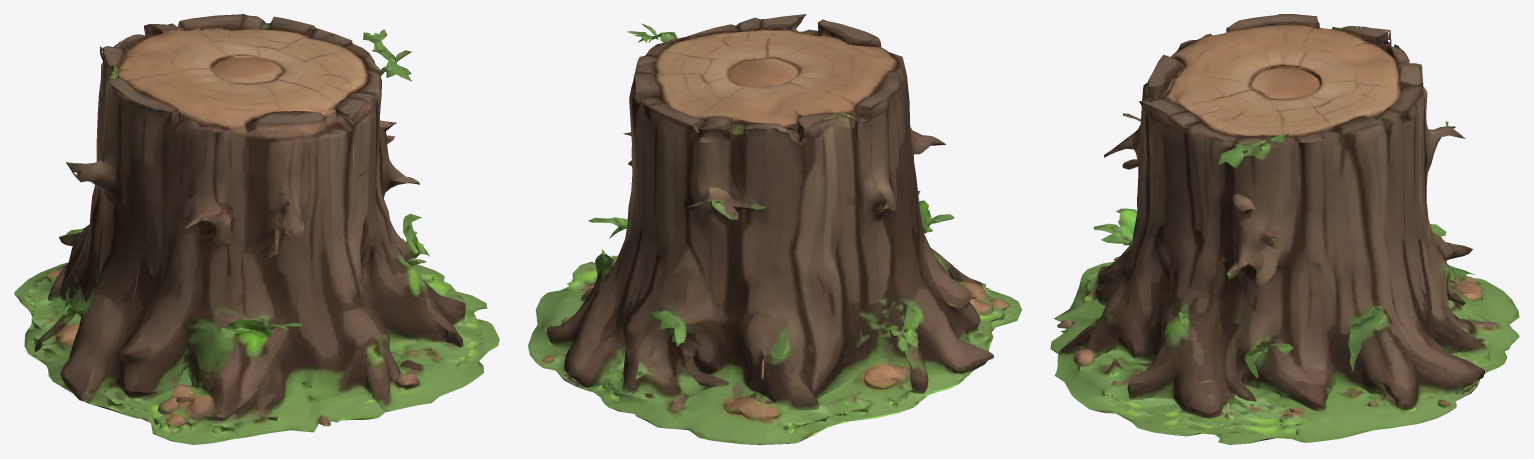
The model's file is StumpGrass.glb.
3 renders of one model, left to right at view 1: azimuth 30°, elevation 25°; view 2: azimuth 150°, elevation 25°; view 3: azimuth 270°, elevation 25°, orthographic.
Visible parts, largest first — view 1: StumpGrass; view 2: StumpGrass; view 3: StumpGrass.
Boxes of the visible parts, x1=… form: StumpGrass: x1=14, y1=14, x2=499, y2=444; StumpGrass: x1=528, y1=14, x2=1021, y2=444; StumpGrass: x1=1050, y1=14, x2=1519, y2=444.
Bounding box in the file's own units: 1.43 × 0.9139 × 1.44.
Materials: 1 (1 with a texture image).
